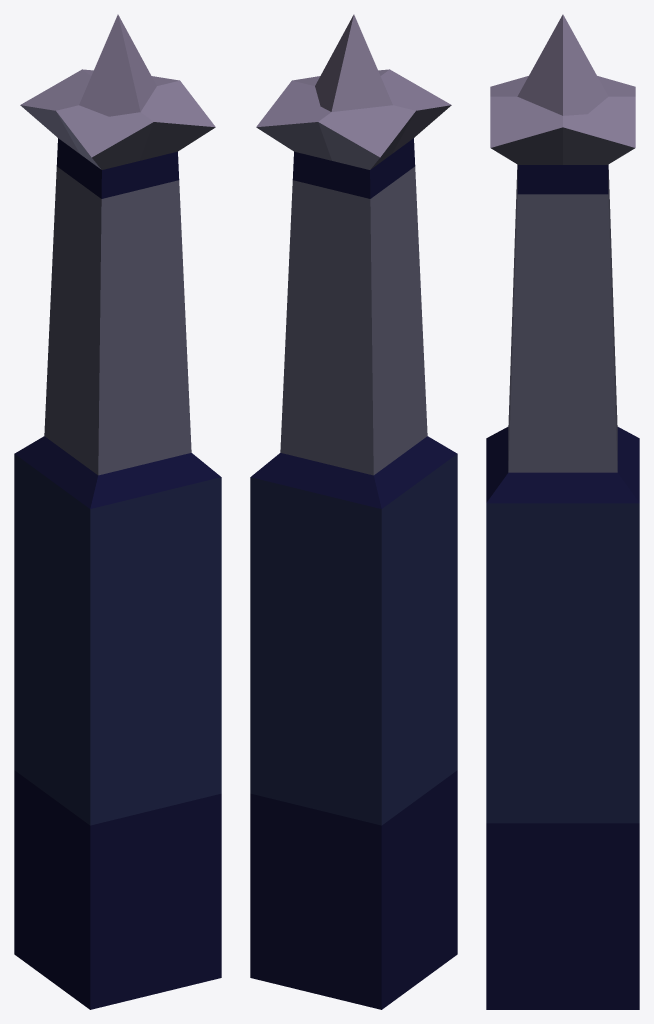
Rendered from Pillar.fbx.
3 renders of one model, left to right at view 1: azimuth 30°, elevation 25°; view 2: azimuth 150°, elevation 25°; view 3: azimuth 270°, elevation 25°, orthographic.
Visible parts, largest first — view 1: PilarCenario; view 2: PilarCenario; view 3: PilarCenario.
Part boxes in pixels (x1,y1,x2,y2): PilarCenario: [14, 14, 221, 1009]; PilarCenario: [250, 14, 457, 1009]; PilarCenario: [486, 14, 639, 1009].
Size of the model in its own units: 46.18 by 320 by 46.18.
